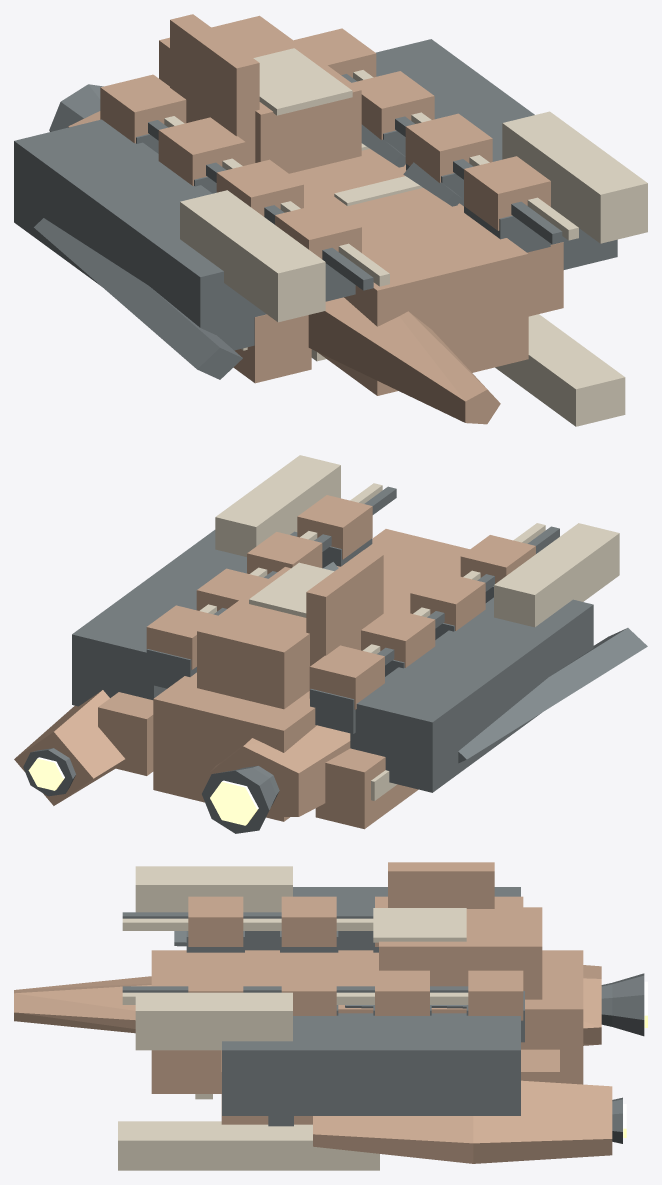
3 renders of one model, top to bottom at view 1: azimuth 30°, elevation 25°; view 2: azimuth 150°, elevation 25°; view 3: azimuth 270°, elevation 25°, orthographic. The views are drawn at different scales.
Bounding box in the file's own units: 14.99 × 8.4 × 21.75.
